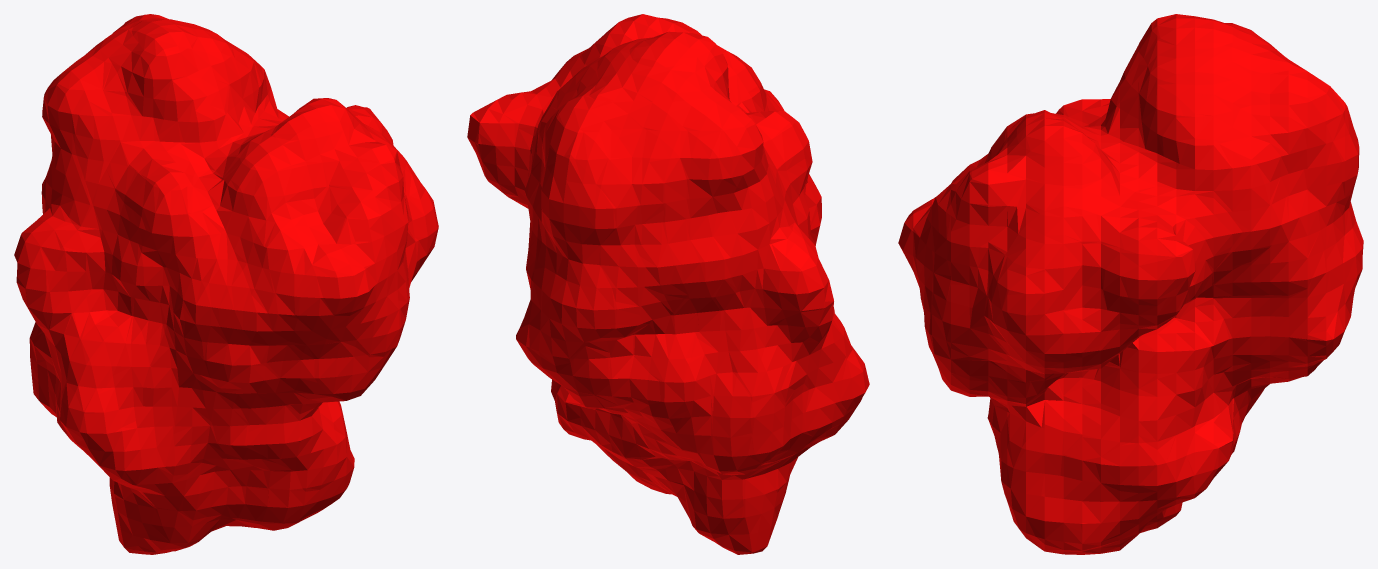
File: helD_coarse.dae
3 views of the same model, side by side, from view 1: azimuth 30°, elevation 25°; view 2: azimuth 150°, elevation 25°; view 3: azimuth 270°, elevation 25° (orthographic). The views are drawn at different scales.
Visible parts, largest first — view 1: helD; view 2: helD; view 3: helD.
Boxes of the visible parts, <box> form: helD: <box>14,14,438,554</box>; helD: <box>467,14,869,554</box>; helD: <box>898,14,1363,554</box>.
Bounding box in the file's own units: 63.64 × 86.45 × 68.6.
